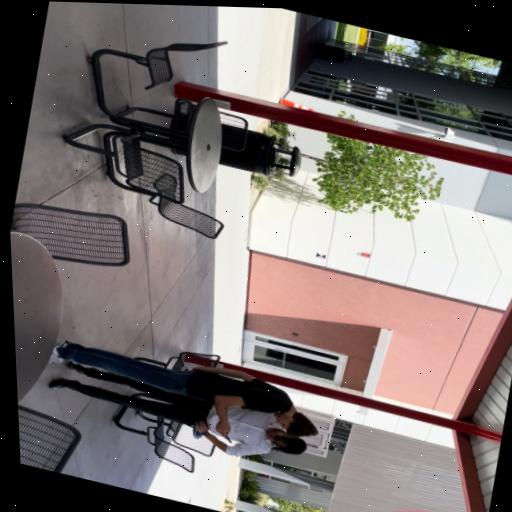target6: (315, 252, 327, 259)
